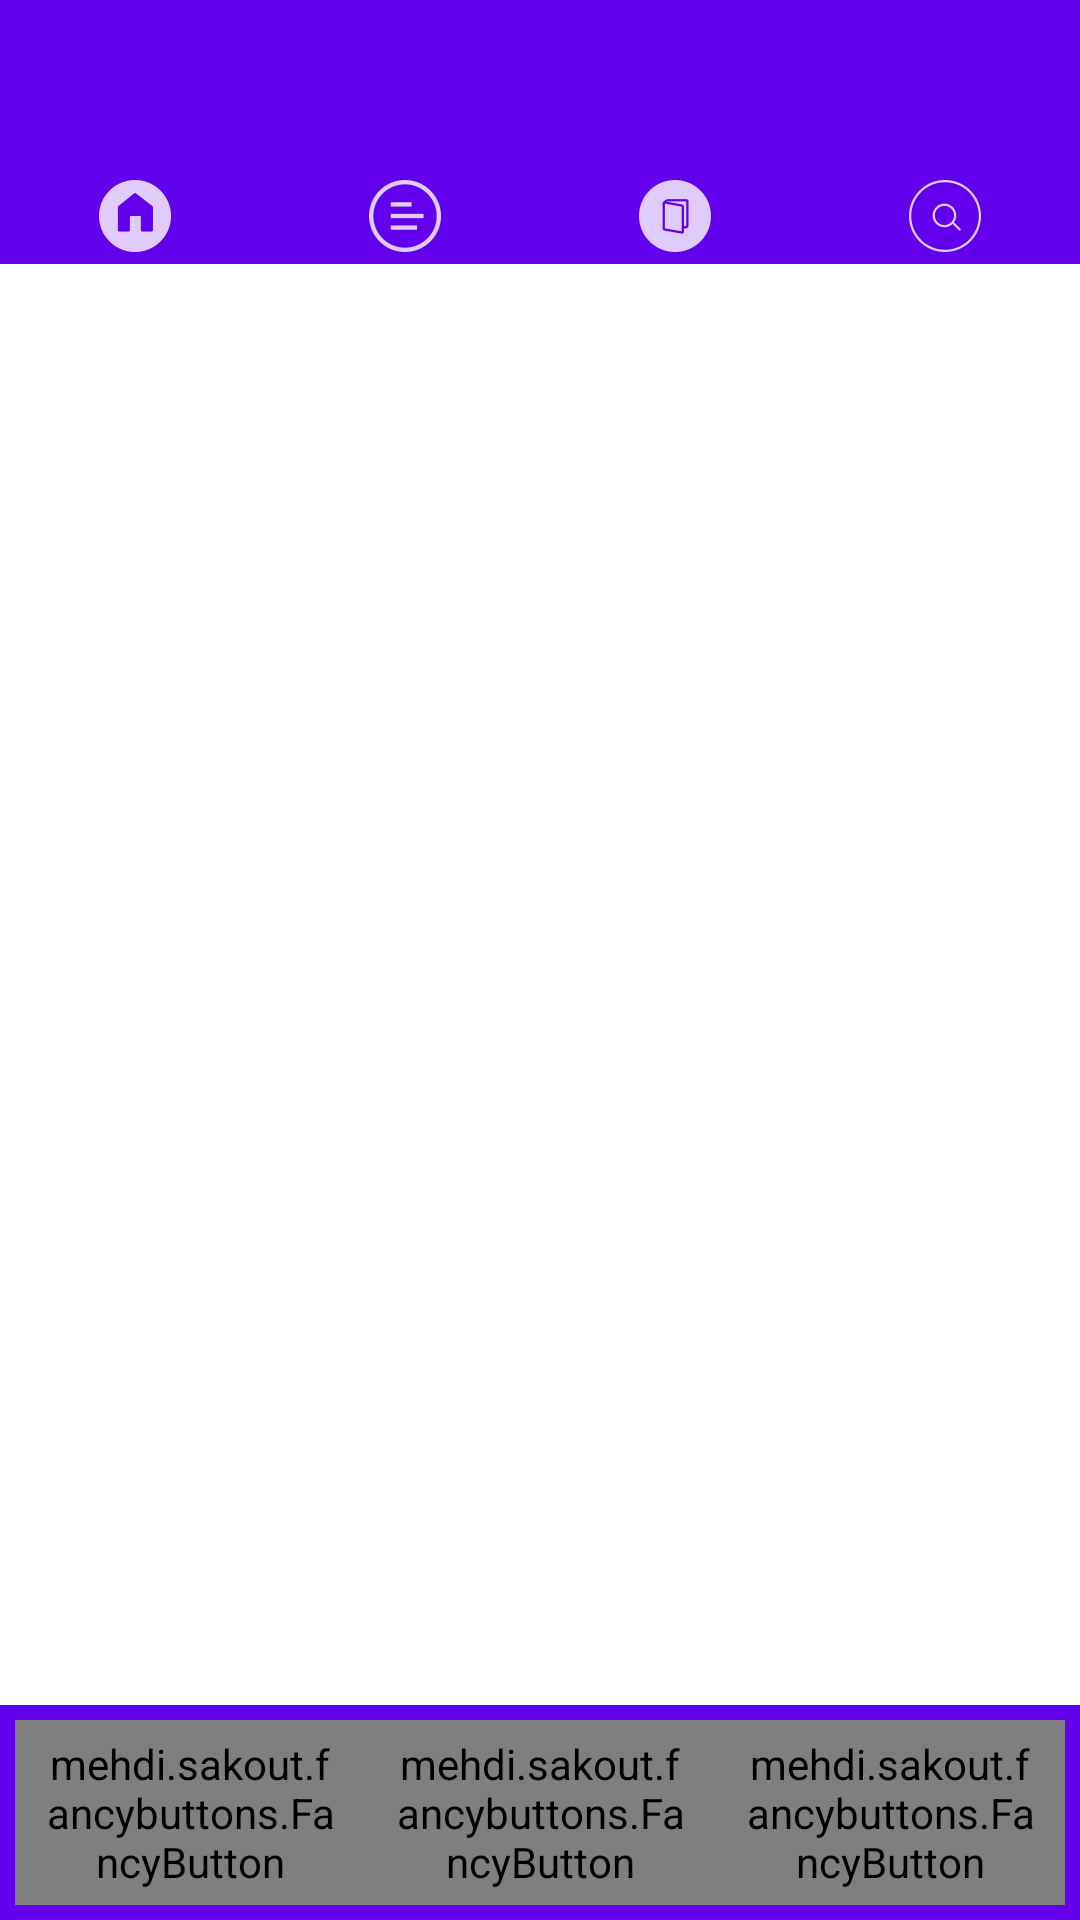

Screen size 1080×1920. Icon name, then its center in pixels as (x=x, y=y):
homeround: (x=135, y=216)
roundsearch: (x=945, y=216)
